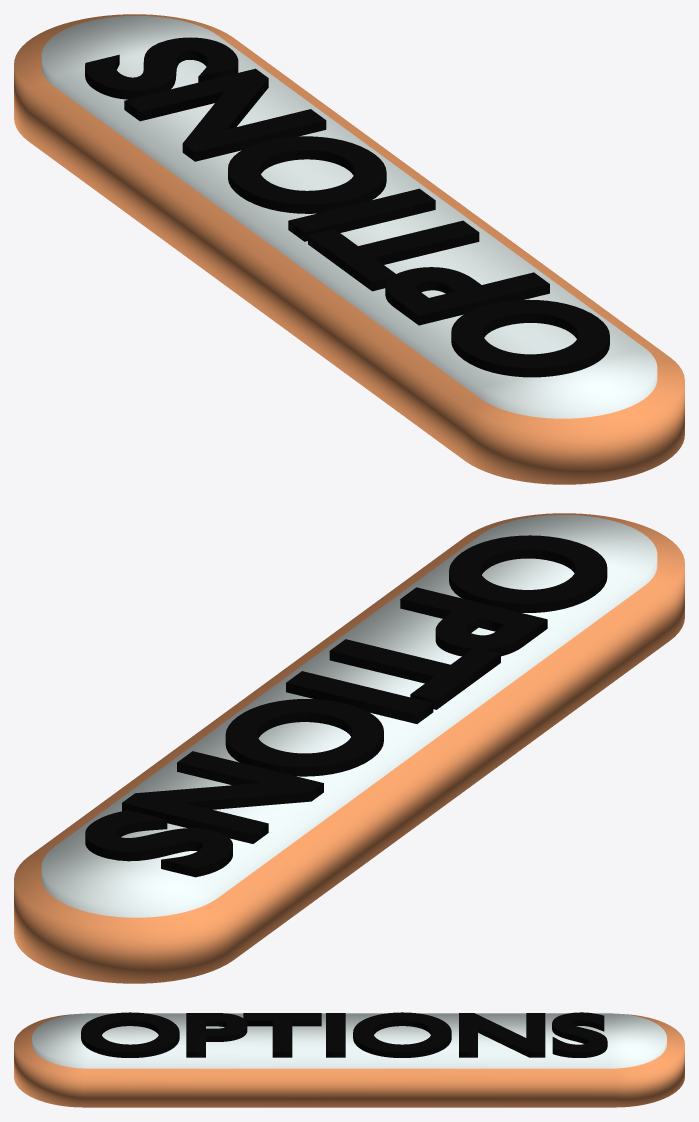
Rendered from options.fbx.
3 views of the same model, one above another, from view 1: azimuth 30°, elevation 25°; view 2: azimuth 150°, elevation 25°; view 3: azimuth 270°, elevation 25° (orthographic). The views are drawn at different scales.
Parts seen in each view (by area): view 1: obj_0.002, obj_0.003, t.001; view 2: obj_0.002, obj_0.003, t.001; view 3: obj_0.002, obj_0.003, t.001.
Boxes of the visible parts, box(x1,y1,x2,y2) form: obj_0.002: box(14, 14, 684, 484); obj_0.003: box(41, 16, 657, 418); t.001: box(85, 37, 609, 377); obj_0.002: box(14, 513, 684, 983); obj_0.003: box(41, 515, 657, 917); t.001: box(85, 535, 607, 877); obj_0.002: box(14, 1014, 684, 1107); obj_0.003: box(32, 1013, 666, 1068); t.001: box(81, 1012, 607, 1057).
Size of the model in its own units: 200 by 68.74 by 930.
